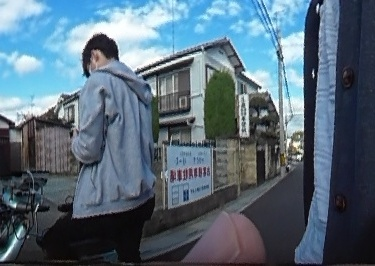person: (37, 32, 155, 260)
